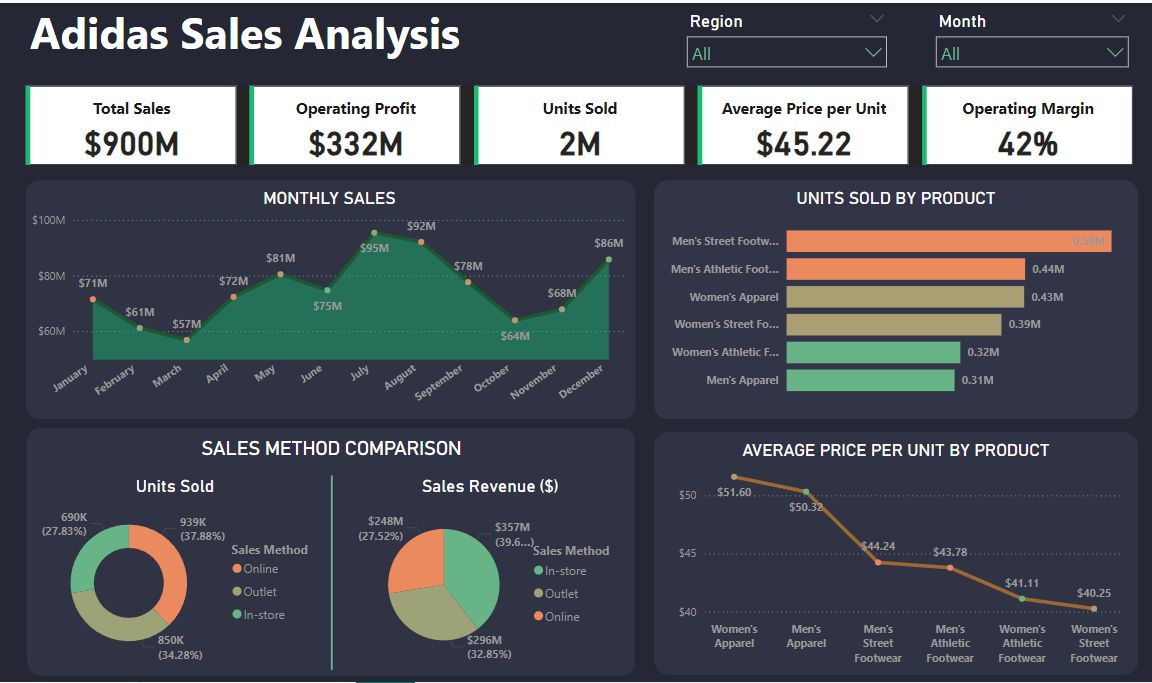

The page's visual inventory and layout, read from the dashboard file:
{"tool":"powerbi","page":{"name":"Duplicate of Page 1","canvas":[1280,780],"ordinal":0},"visuals":[{"type":"textbox","box":[28,0,612,94],"z":0},{"type":"shape","box":[28,204,678,266],"z":0,"group":"g1"},{"type":"areaChart","title":"MONTHLY SALES","fields":{"Category":["Data Sales Adidas.Invoice Date.Variation.Date Hierarchy.Month"],"Y":["Sum(Data Sales Adidas.Total Sales)"]},"box":[30,212,672,258],"z":1000,"group":"g1"},{"type":"shape","box":[726,484,538,270],"z":1000},{"type":"pieChart","title":"Sales Revenue ($)","fields":{"Category":["Data Sales Adidas.Sales Method"],"Y":["Sum(Data Sales Adidas.Total Sales)"]},"box":[388,532,312,220],"z":1000,"group":"g2"},{"type":"shape","box":[30,478,676,276],"z":2000},{"type":"shape","box":[726,204,538,266],"z":3000},{"type":"cardVisual","fields":{"Data":["Sum(Data Sales Adidas.Total Sales)","Sum(Data Sales Adidas.Operating Profit)","Sum(Data Sales Adidas.Units Sold)","Avg(Data Sales Adidas.Price per Unit)","Avg(Data Sales Adidas.Operating Margin)"]},"box":[24,94,1240,98],"z":4000},{"type":"barChart","title":"UNITS SOLD BY PRODUCT","fields":{"Category":["Data Sales Adidas.Product"],"Y":["Sum(Data Sales Adidas.Units Sold)"]},"box":[726,212,538,244],"z":5000},{"type":"donutChart","title":"Units Sold","fields":{"Category":["Data Sales Adidas.Sales Method"],"Y":["Sum(Data Sales Adidas.Units Sold)"]},"box":[24,532,342,216],"z":6000},{"type":"lineChart","title":"AVERAGE PRICE PER UNIT BY PRODUCT","fields":{"Category":["Data Sales Adidas.Product"],"Y":["Avg(Data Sales Adidas.Price per Unit)"]},"box":[734,492,524,258],"z":7000},{"type":"slicer","fields":{"Values":["Data Sales Adidas.Region"]},"box":[754,10,242,84],"z":8000},{"type":"slicer","fields":{"Values":["Data Sales Adidas.Invoice Date.Variation.Date Hierarchy.Month"]},"box":[1030,10,234,84],"z":9000},{"type":"group","id":"g1","title":"Graph 1","box":[28,204,678,266],"z":10000},{"type":"group","id":"g2","title":"Group 1","box":[388,532,312,220],"z":11000},{"type":"shape","box":[316,532,104,216],"z":12000},{"type":"textbox","box":[30,484,676,68],"z":13000}]}

Visuals, with their boxes in screenshot pixels (x1, y1, x2, y2), scaled from the page's 1280x780 canvas onto the 1152x683 screenshot:
textbox: Rect(25, 0, 576, 82)
shape: Rect(25, 179, 635, 412)
"MONTHLY SALES" areaChart: Rect(27, 186, 632, 412)
shape: Rect(653, 424, 1138, 660)
"Sales Revenue ($)" pieChart: Rect(349, 466, 630, 658)
shape: Rect(27, 419, 635, 660)
shape: Rect(653, 179, 1138, 412)
cardVisual - Sum(Data Sales Adidas.Total Sales) x Sum(Data Sales Adidas.Operating Profit): Rect(22, 82, 1138, 168)
"UNITS SOLD BY PRODUCT" barChart: Rect(653, 186, 1138, 399)
"Units Sold" donutChart: Rect(22, 466, 329, 655)
"AVERAGE PRICE PER UNIT BY PRODUCT" lineChart: Rect(661, 431, 1132, 657)
slicer - Data Sales Adidas.Region: Rect(679, 9, 896, 82)
slicer - Data Sales Adidas.Invoice Date.Variation.Date Hierarchy.Month: Rect(927, 9, 1138, 82)
"Graph 1" group: Rect(25, 179, 635, 412)
"Group 1" group: Rect(349, 466, 630, 658)
shape: Rect(284, 466, 378, 655)
textbox: Rect(27, 424, 635, 483)
